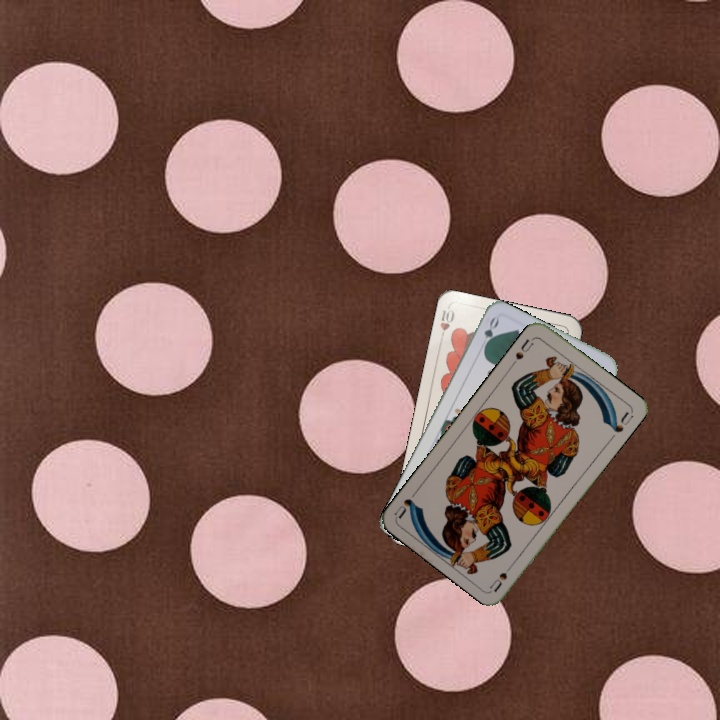GO: (476, 313, 502, 354)
H10: (436, 306, 457, 344)
SU: (486, 557, 518, 594), (508, 334, 537, 368)
